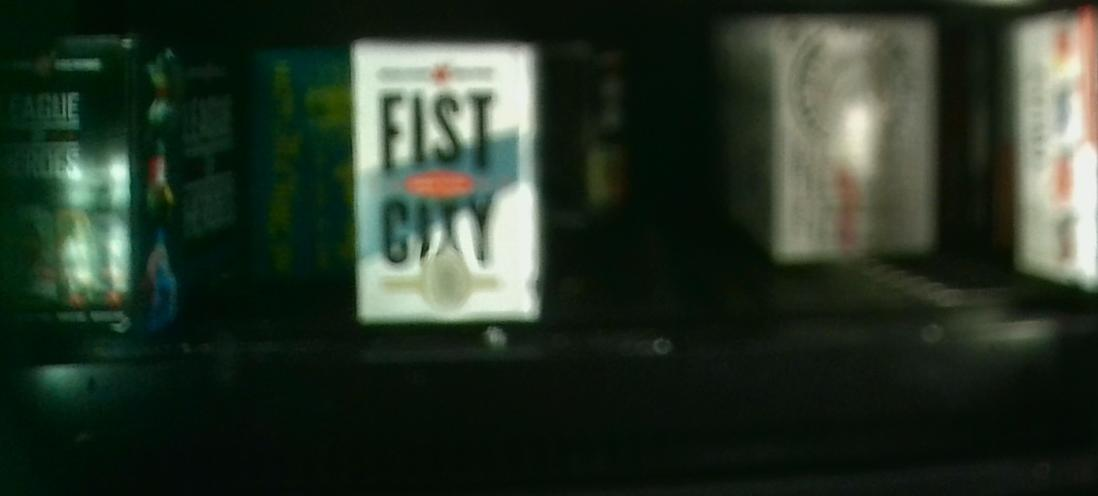bottle: (710, 16, 936, 262), (352, 38, 540, 326), (4, 36, 185, 334), (244, 43, 352, 287)
